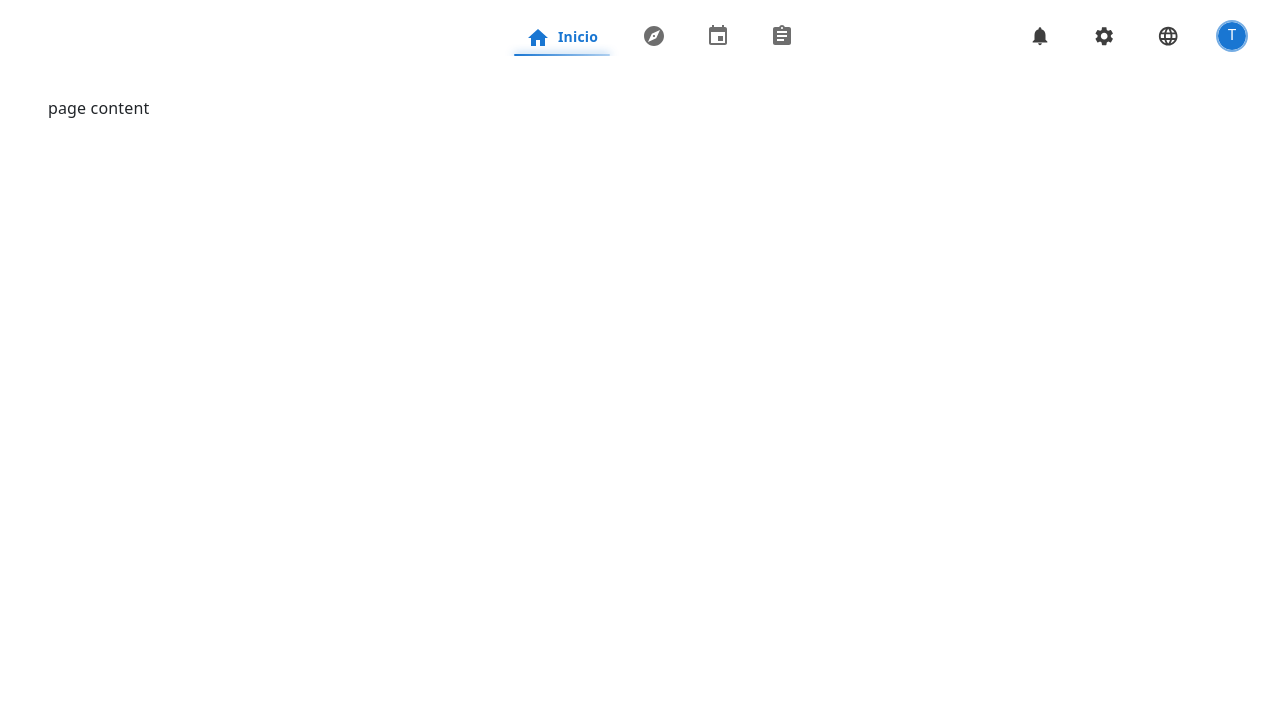
Test: navbar quick actions › opens the language menu from the globe icon
Expected: the icon with class "rt-globe" is shown, x1=1157 y1=25 x2=1179 y2=47
Click the button with class "rt-globe" at [1168, 36], box x1=1152 y1=20 x2=1184 y2=52
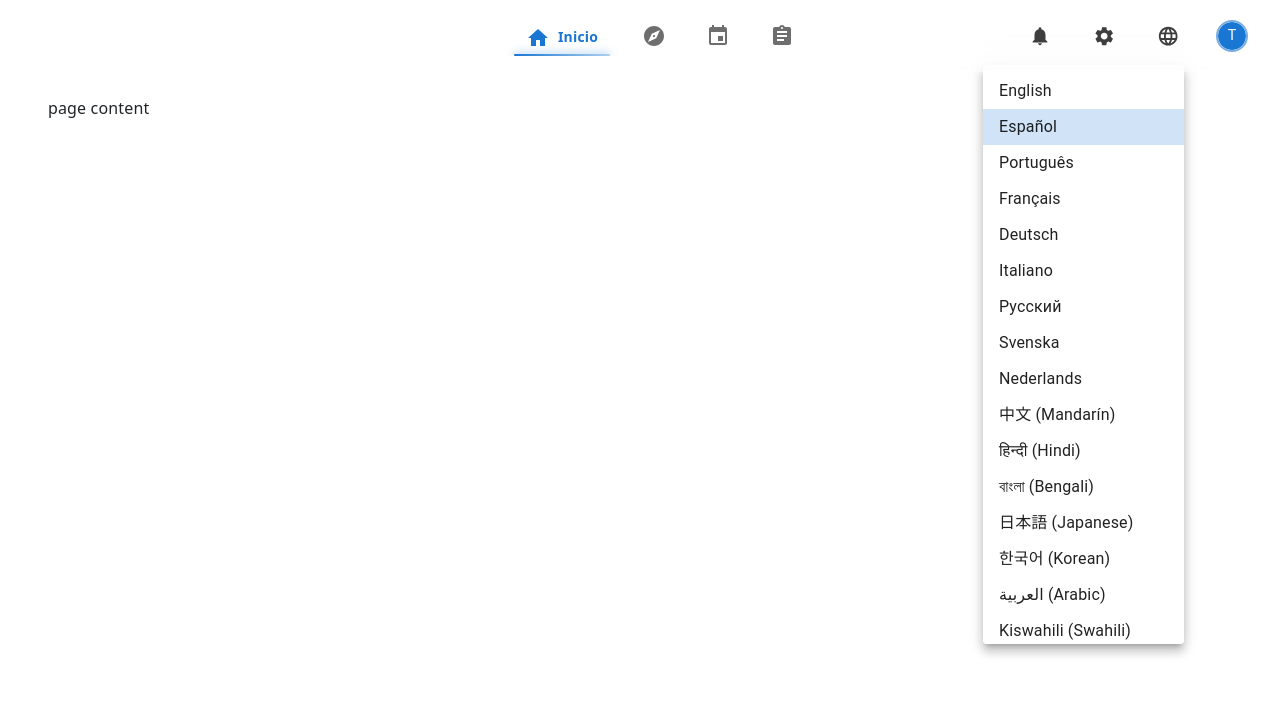
Expected: the element with id "menu-language" is shown, x1=983 y1=65 x2=1184 y2=644
